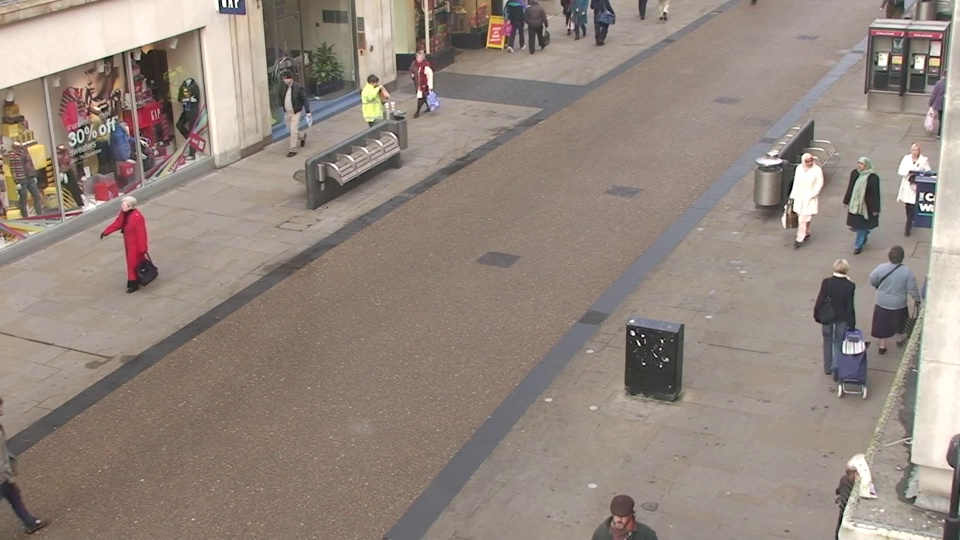pedestrian: (864, 241, 918, 372), (824, 439, 891, 540), (812, 252, 862, 384), (110, 191, 158, 303), (888, 138, 935, 243), (839, 151, 882, 258), (786, 148, 825, 253), (918, 64, 960, 152), (590, 487, 651, 540), (359, 71, 390, 154), (275, 69, 306, 150), (409, 47, 436, 124)
